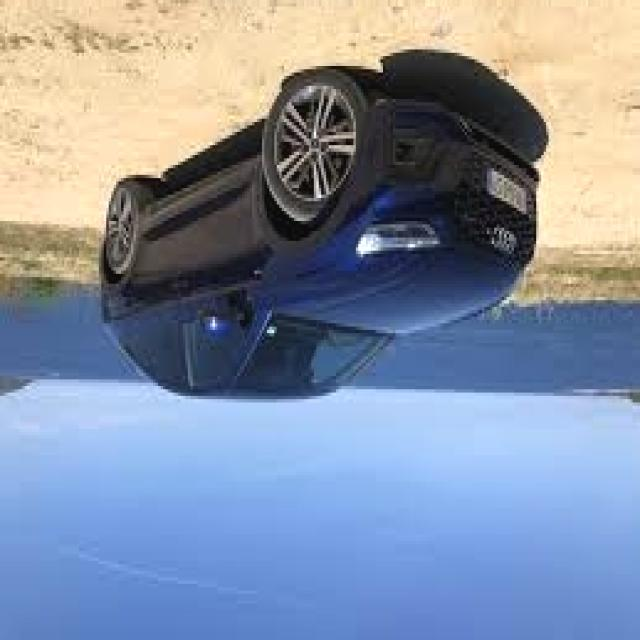black: (103, 65, 539, 400)
